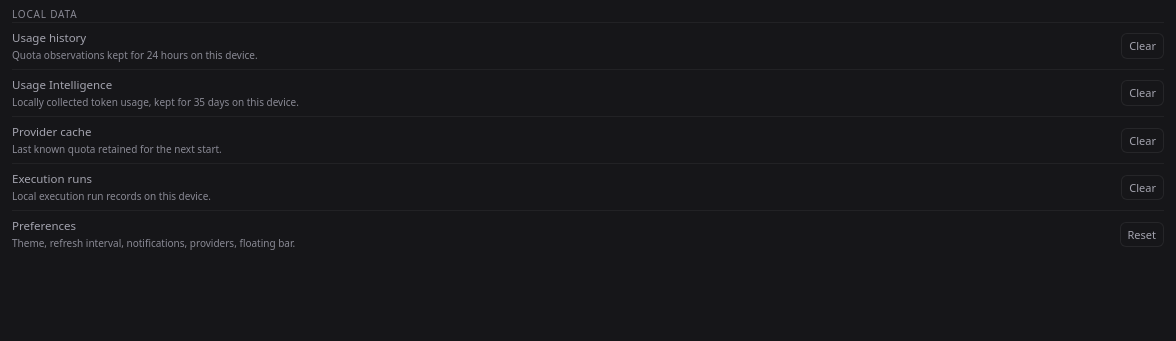
Test: local data section › asks for confirmation and states what is not affected
The width and height of the screenshot is (1176, 341).
Click the button with aria-label "Clear usage history" at {"x": 1143, "y": 46}, box [1121,33,1164,59]
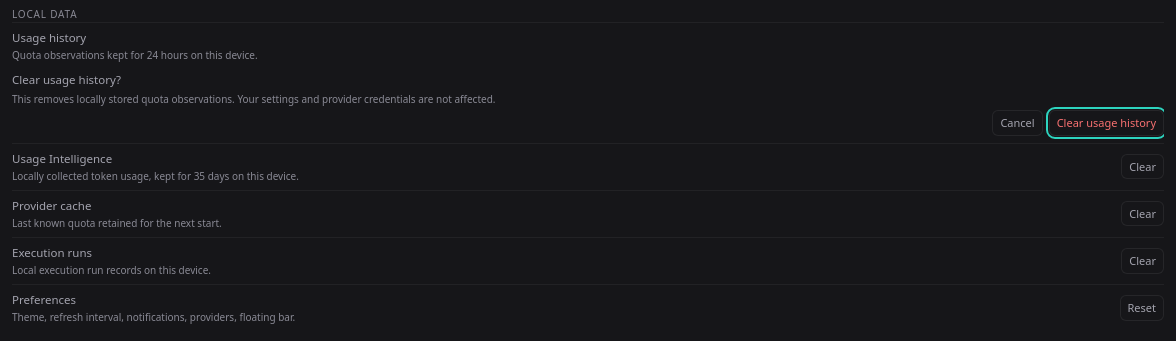
Result: the text "Clear usage history?" is shown at [12,72,121,87]
Result: the text "This removes locally stored quota observations. Your settings and provider credentials are not affected." is shown at [12,92,496,106]
